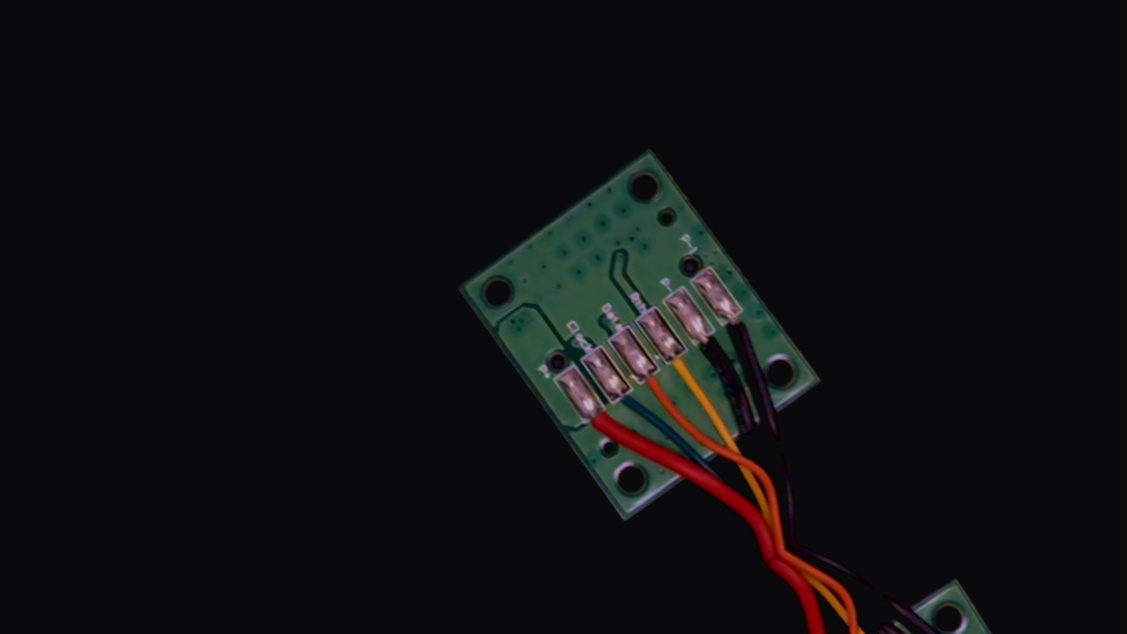Black: (680, 315, 741, 385)
Black1: (712, 294, 770, 359)
Green: (601, 376, 651, 430)
Orange: (627, 357, 686, 425)
Red: (571, 392, 630, 460)
Yellow: (654, 337, 715, 407)
